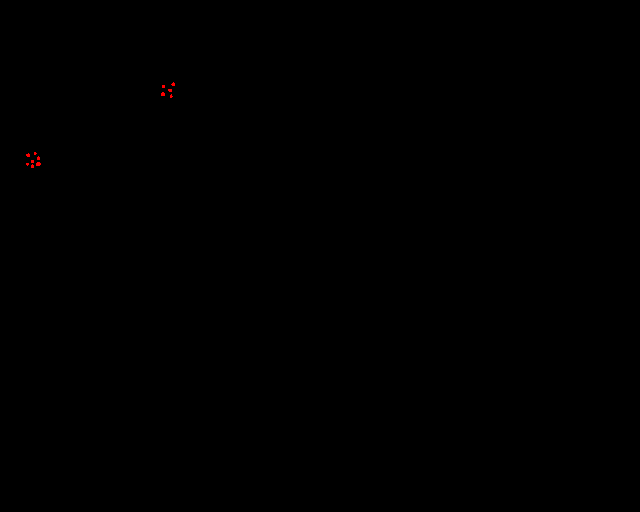Target: (36, 162, 41, 166), (171, 82, 175, 86), (161, 92, 165, 96), (26, 153, 30, 157), (168, 89, 172, 92), (170, 94, 173, 98), (37, 156, 40, 160), (31, 164, 34, 168), (162, 85, 165, 88), (34, 152, 37, 155), (31, 160, 34, 163), (26, 163, 29, 166)
